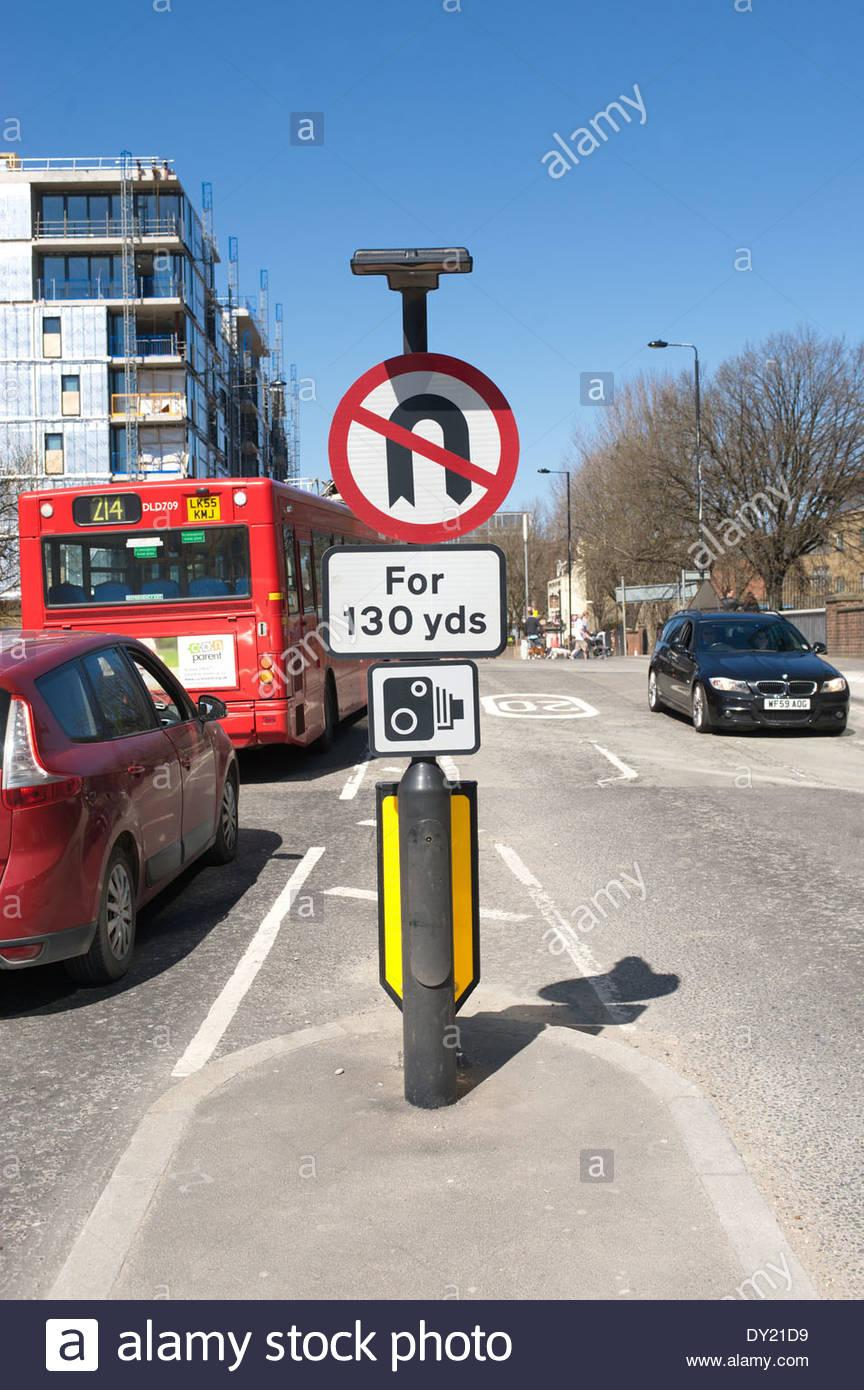no_u_turn: (328, 351, 520, 542)
